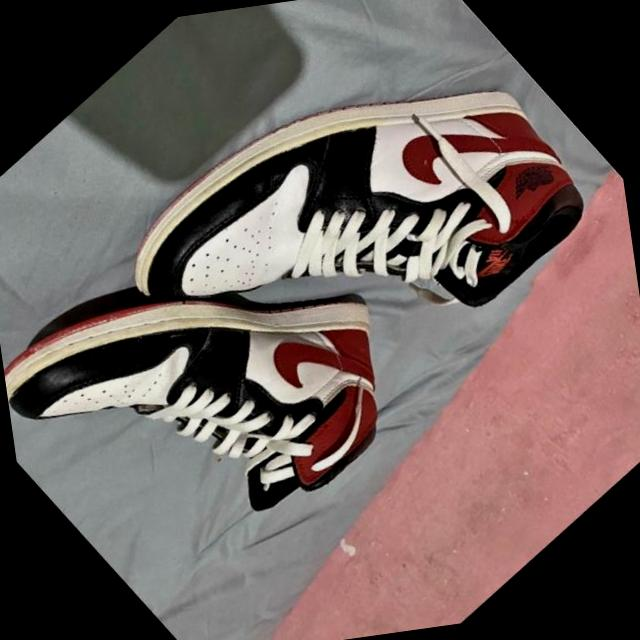nike_fake_jordan: (81, 0, 640, 497), (0, 131, 471, 634)
